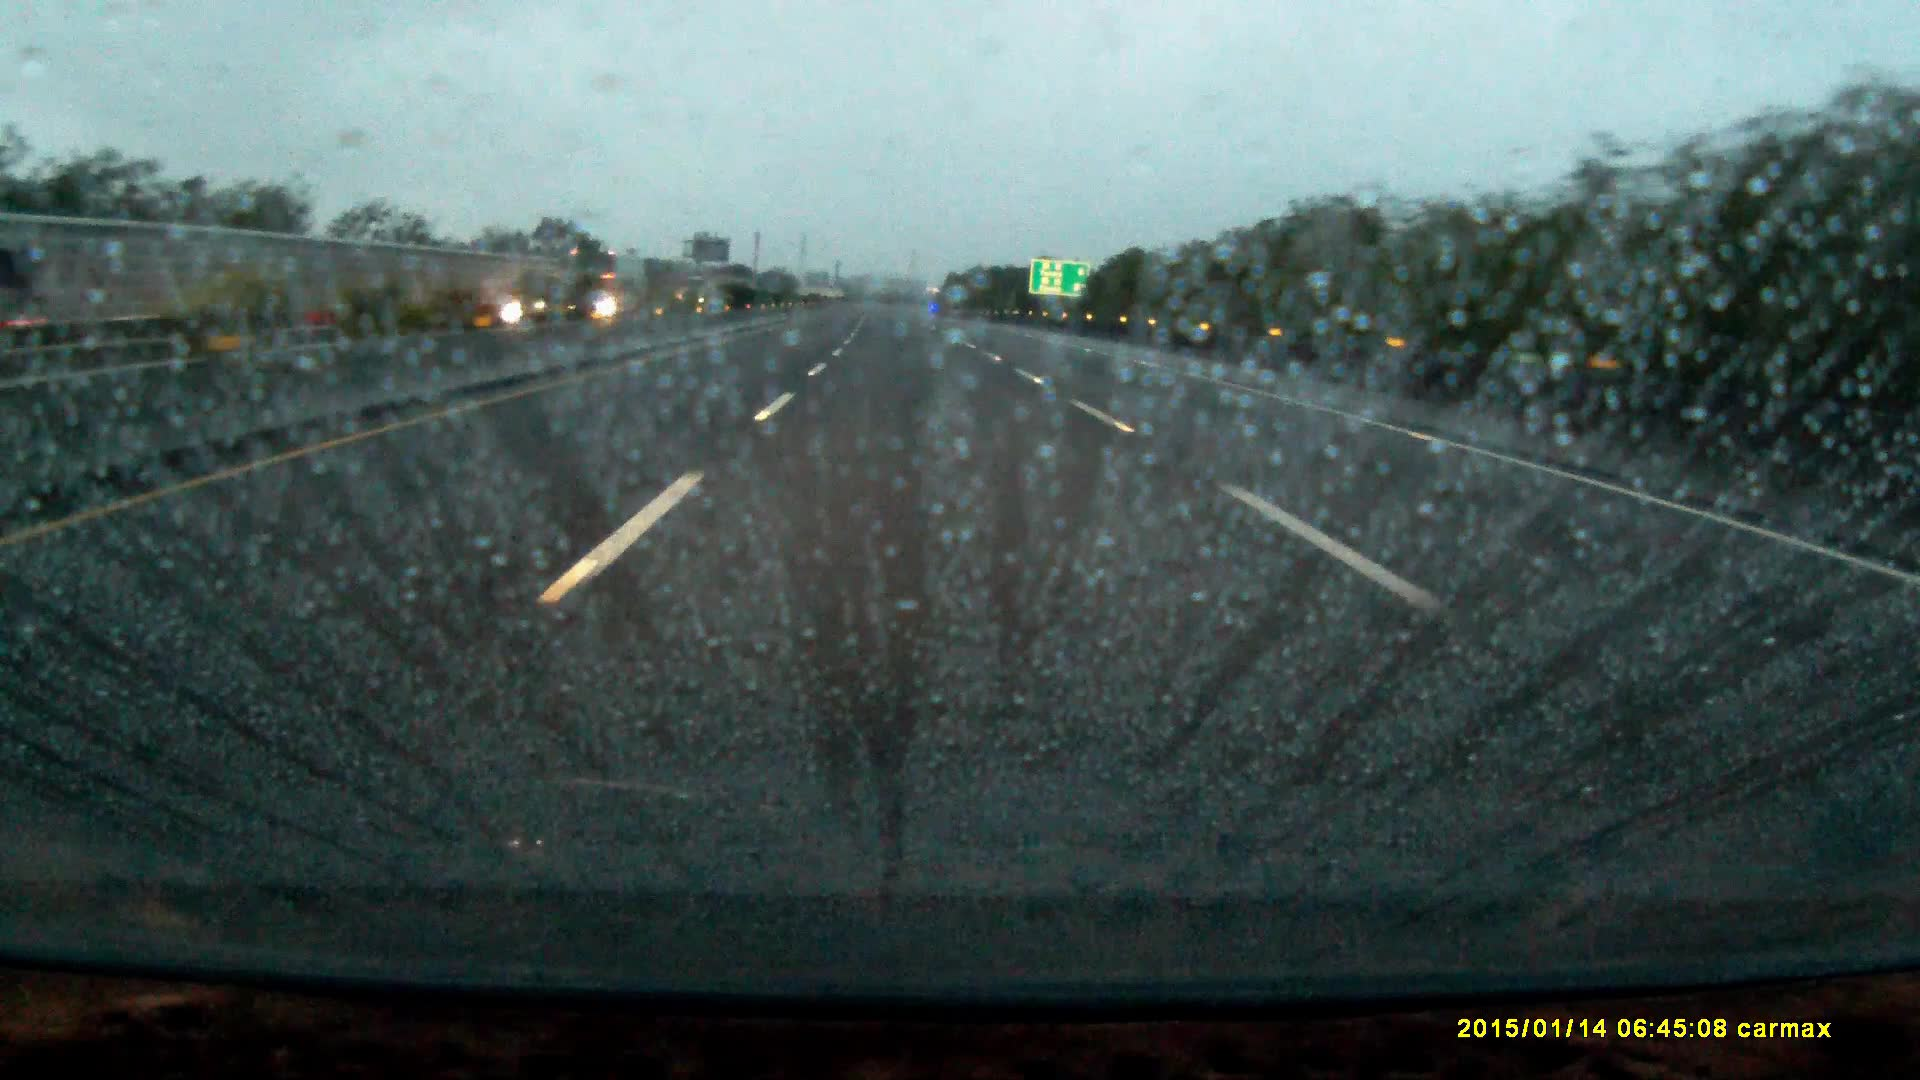vehicle: (570, 251, 651, 318), (502, 285, 568, 323)
